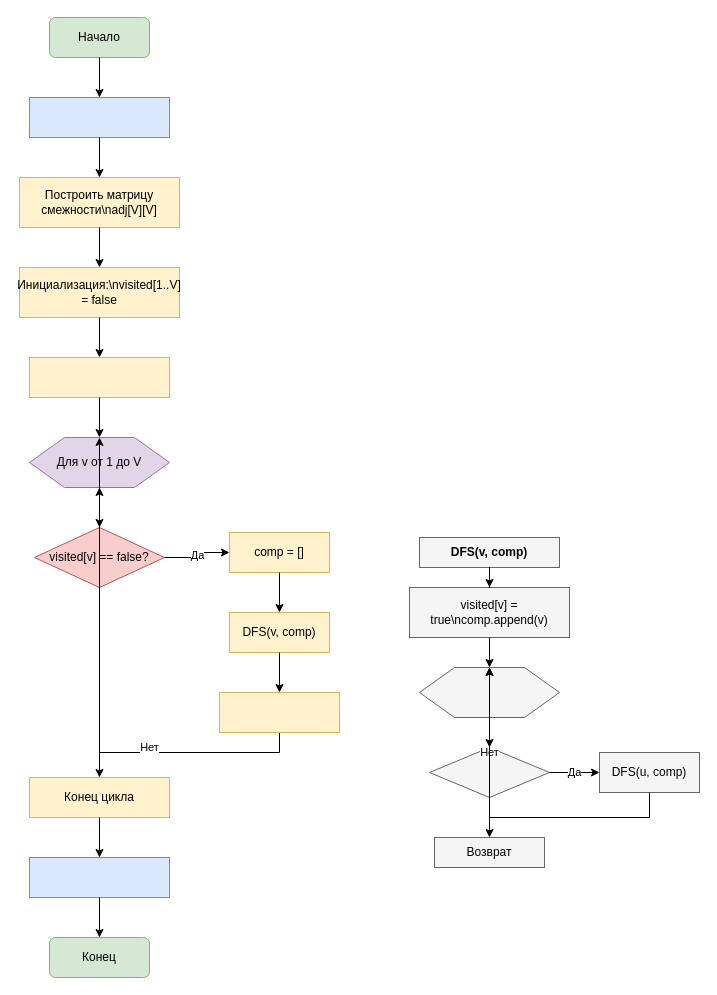
Image size: 717x995. Some labels were removed from this diagram. Here are the shapes that lost their labels. From the top down, the box of each, then its label:
(28, 96, 170, 138): Вход: граф G(V,E)
(28, 356, 170, 398): components = []
(218, 692, 340, 732): components.append(comp)
(418, 666, 560, 718): Для каждого соседа u вершины v
(428, 746, 550, 798): visited[u] == false?
(28, 856, 170, 898): Вывод components
